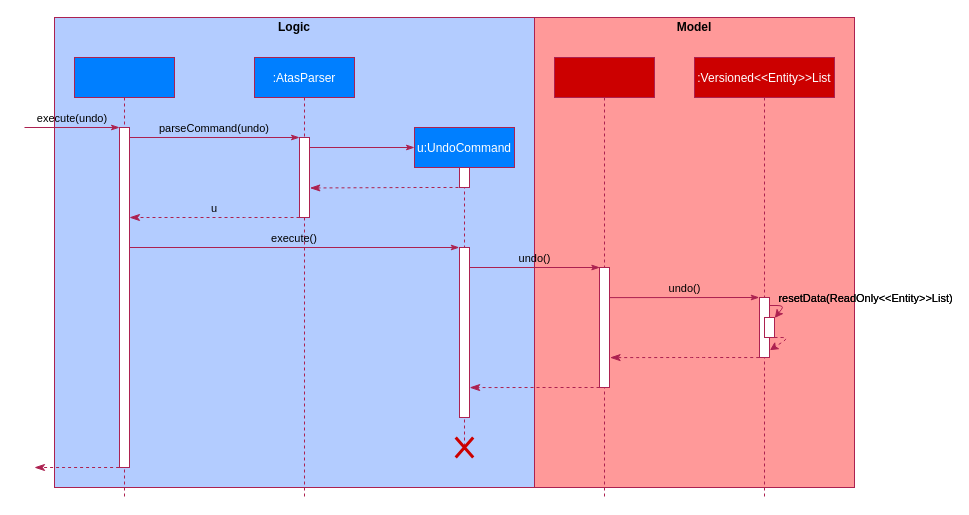
This 969x515 diagram has some shape labels left out. Each missing label, with the box of its shape:
:LogicManager: (74, 56, 174, 498)
:Model: (554, 56, 654, 498)
